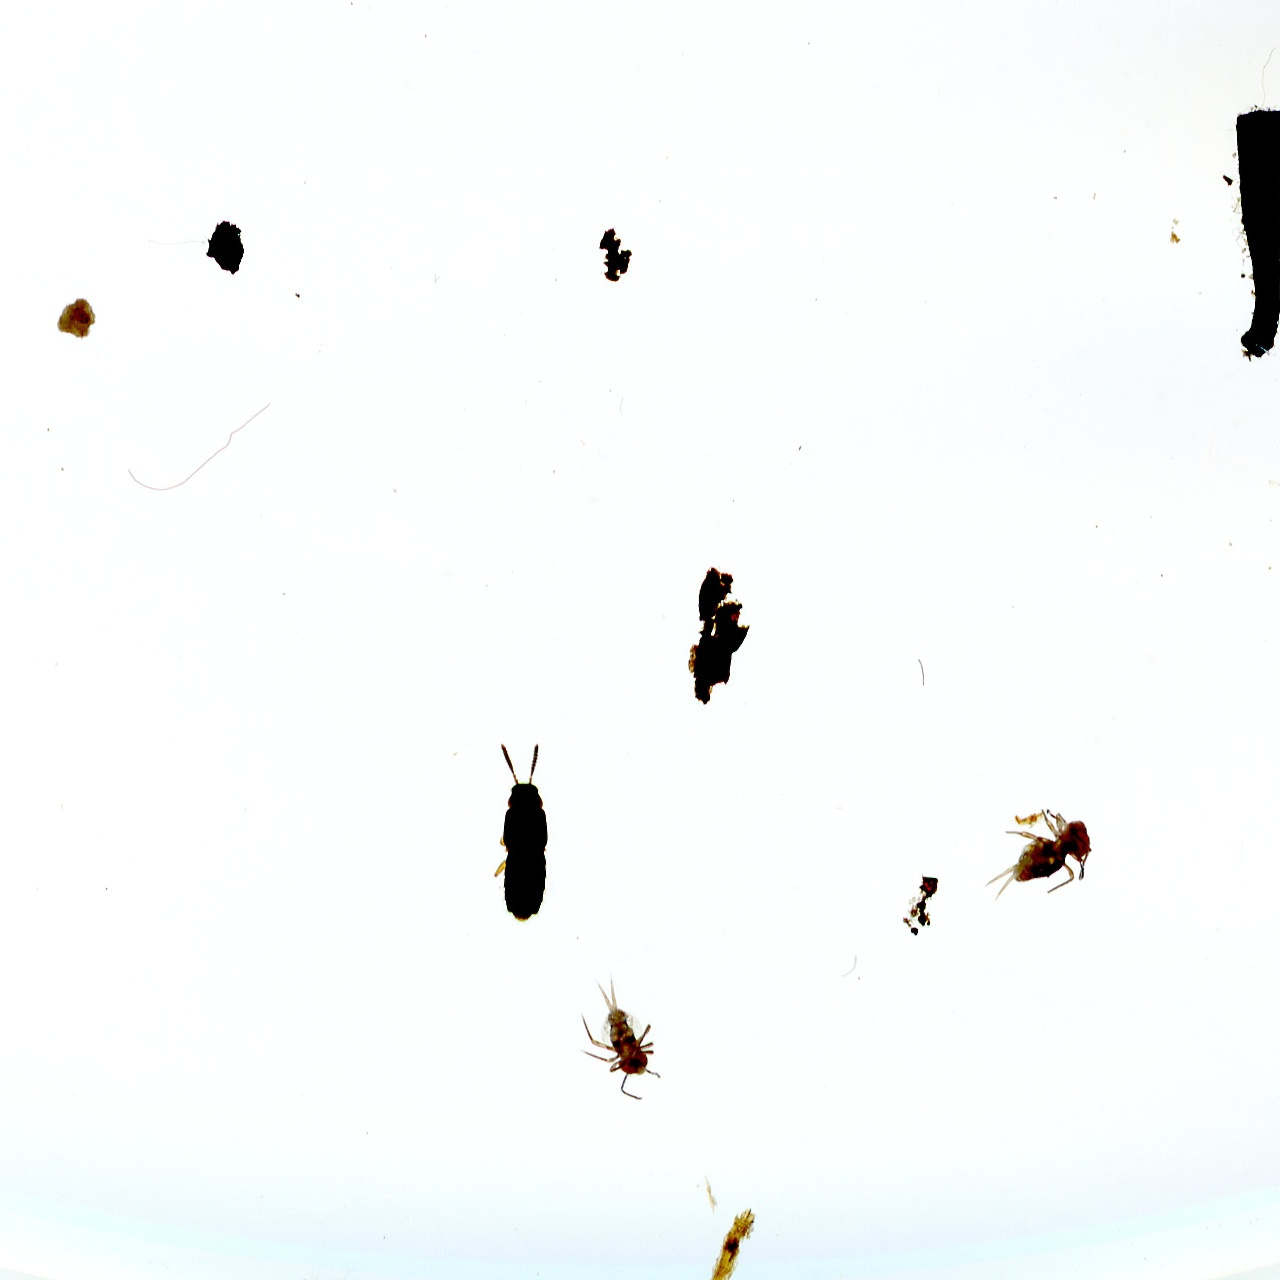arthropod: (555, 959, 677, 1117), (487, 733, 557, 927), (983, 808, 1102, 902)
